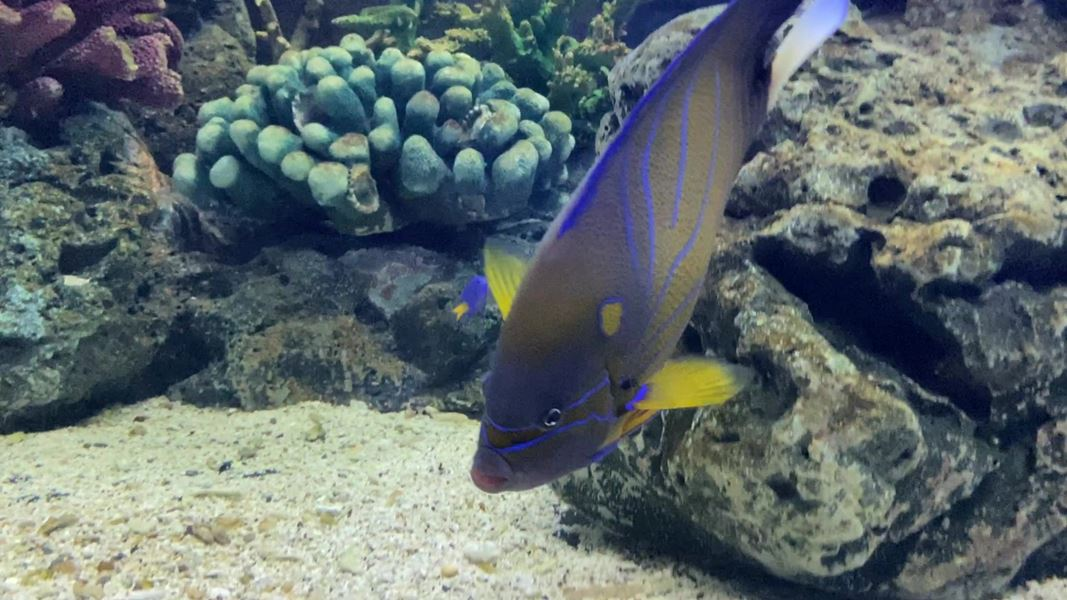Blue ring angelfish: (429, 4, 819, 520)
